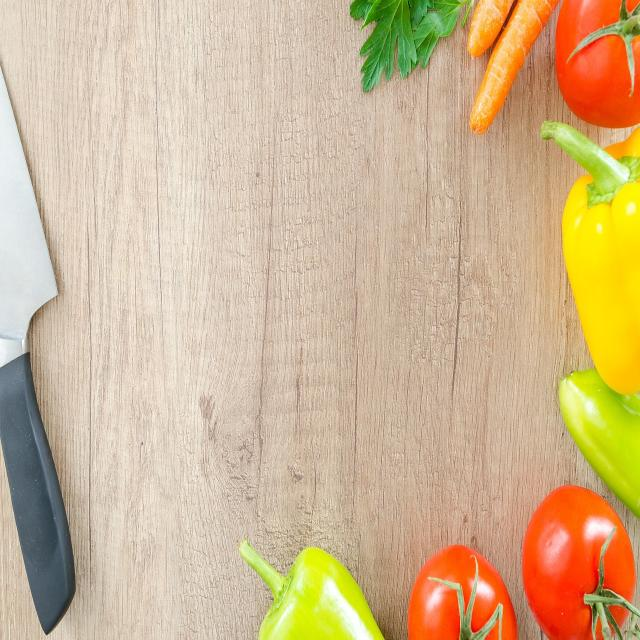Knife: (0, 69, 74, 630)
